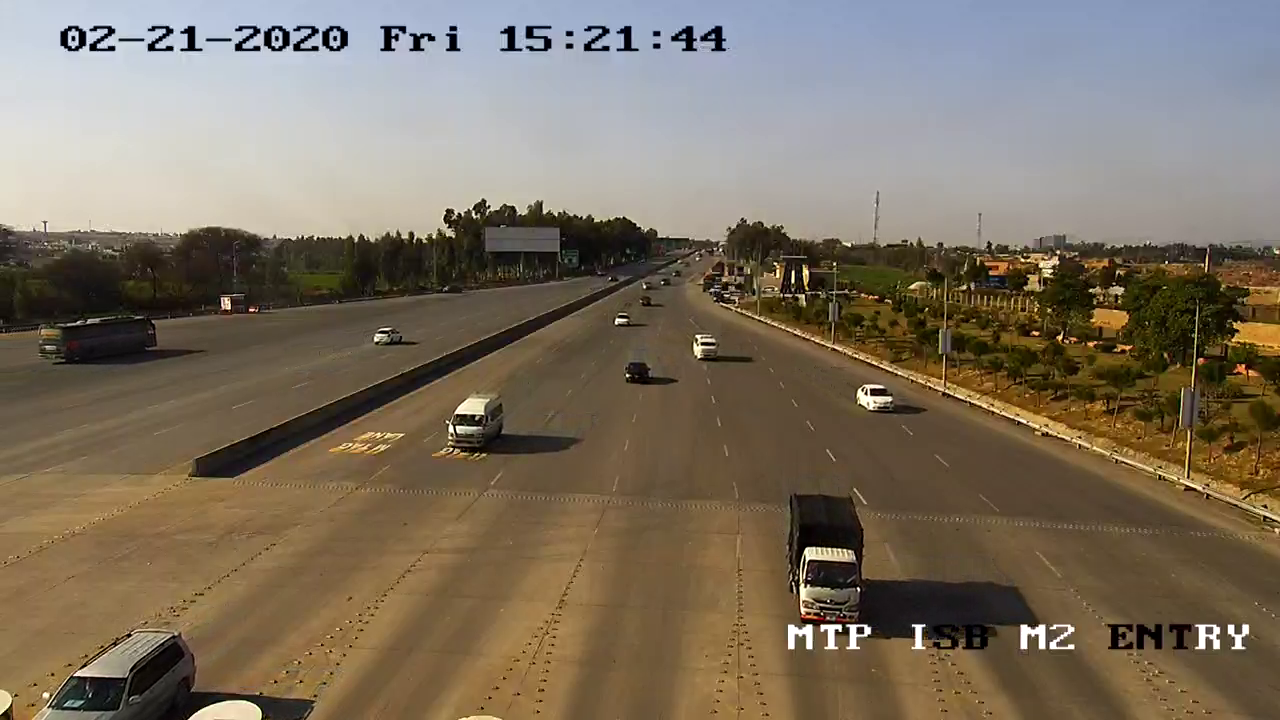f1: (853, 376, 906, 421)
f2: (437, 384, 508, 456)
f5: (780, 480, 872, 630)
